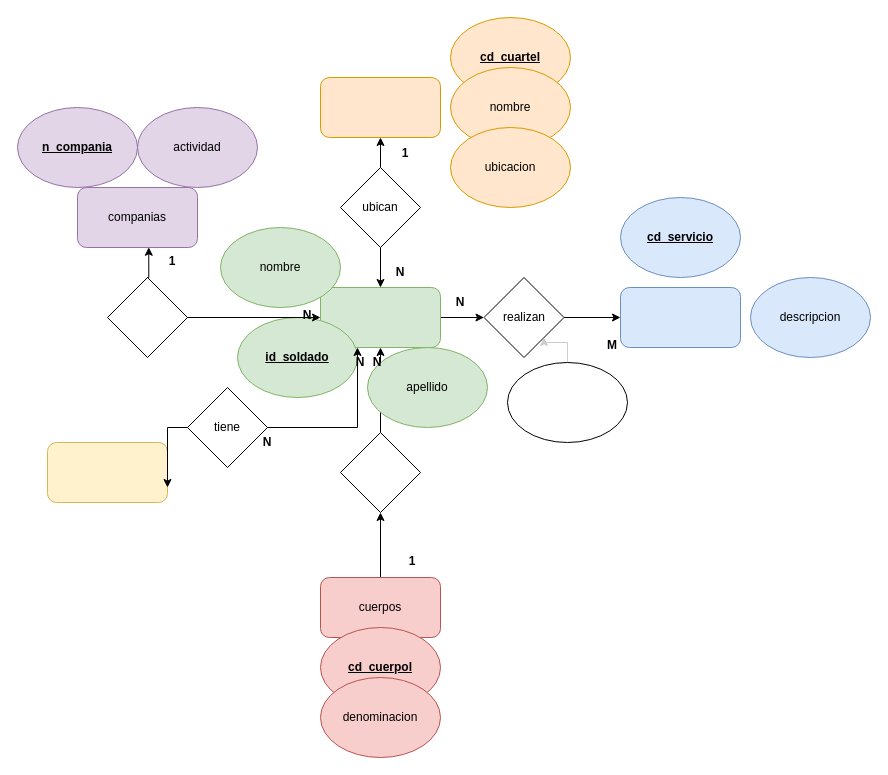
Image size: 888x775. Some labels were removed from this diagram. Each missing label, with the centre of its shape:
"agrupan" belongs at (x=147, y=317).
"cuarteles" belongs at (x=380, y=107).
"fecha" belongs at (x=567, y=402).
"graduacion" belongs at (x=107, y=472).
"pertenecen" belongs at (x=380, y=472).
"servicios" belongs at (x=680, y=317).
"soldado" belongs at (x=380, y=317).
